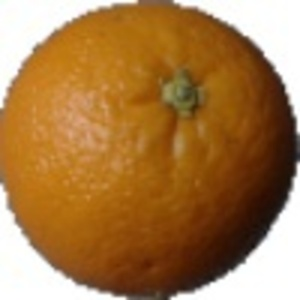laranja: (3, 2, 297, 296)
